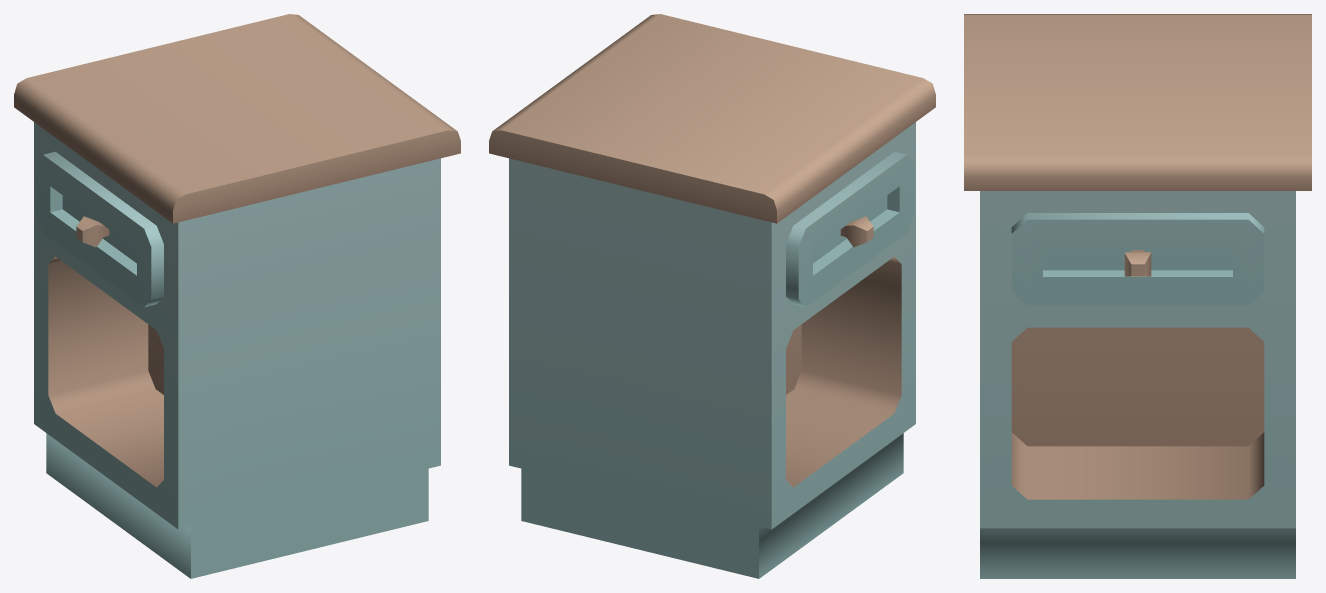
File: cabinet-decorative-island-drawer.glb
The picture shows the model from 3 angles, left to right: view 1: azimuth 30°, elevation 25°; view 2: azimuth 150°, elevation 25°; view 3: azimuth 270°, elevation 25°; orthographic projection. The views are drawn at different scales.
Parts seen in each view (by area): view 1: cabinet-decorative-island-drawer; view 2: cabinet-decorative-island-drawer; view 3: cabinet-decorative-island-drawer.
Part boxes in pixels (box(x1,y1,x2,y2)): cabinet-decorative-island-drawer: box(14, 14, 460, 578); cabinet-decorative-island-drawer: box(489, 14, 935, 578); cabinet-decorative-island-drawer: box(964, 14, 1311, 578).
Bounding box in the file's own units: 0.6315 × 0.75 × 0.55.
